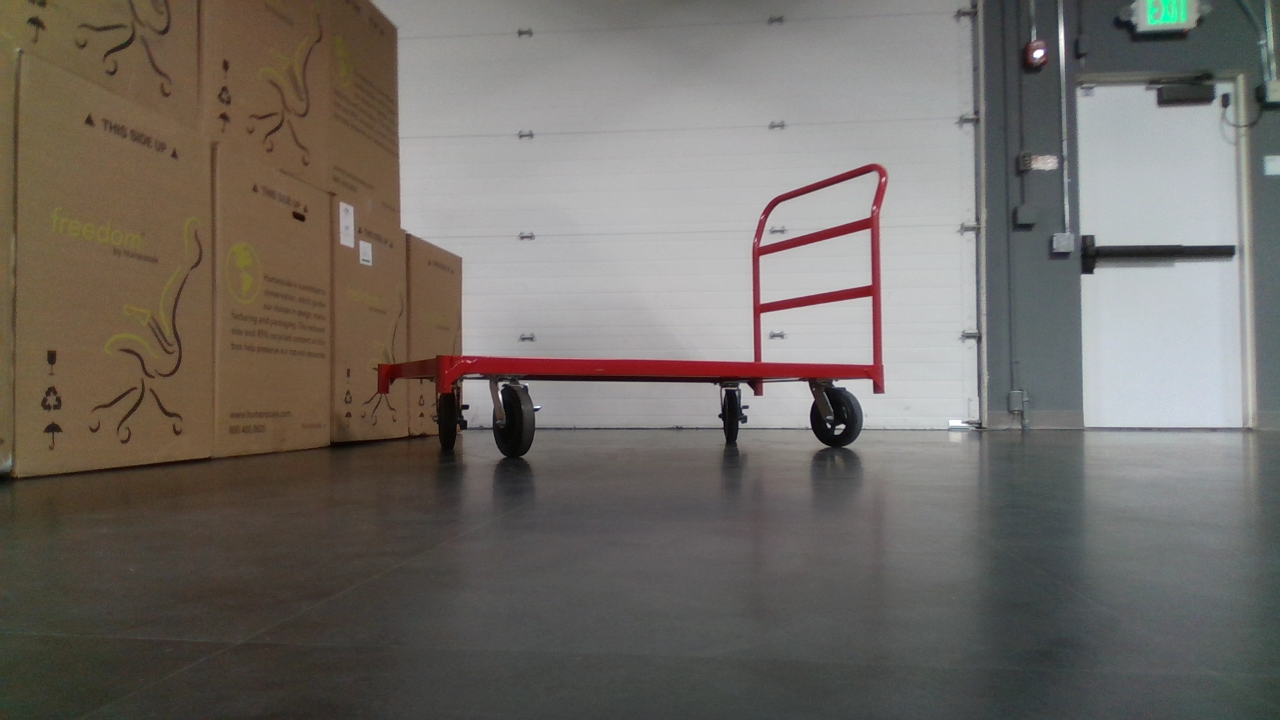Dolly: (376, 159, 892, 461)
Wheel: (486, 384, 542, 459), (808, 386, 867, 450), (429, 386, 474, 451), (713, 390, 756, 448)
